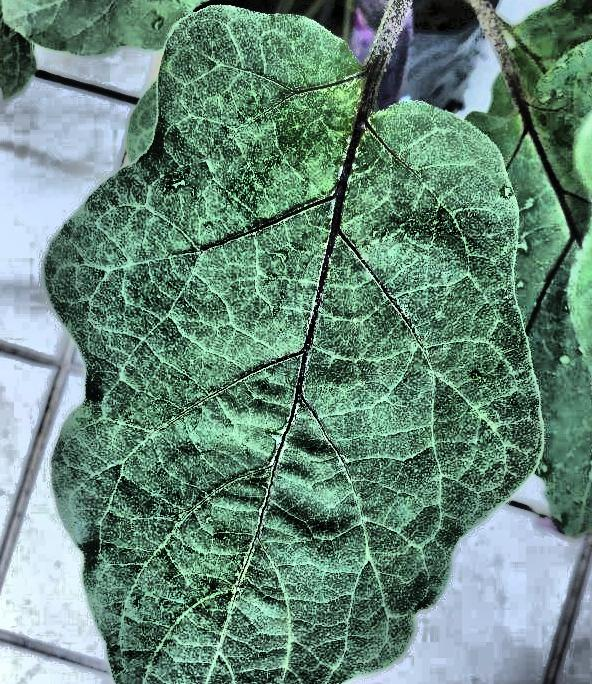HEALTHY: (22, 0, 592, 478)
